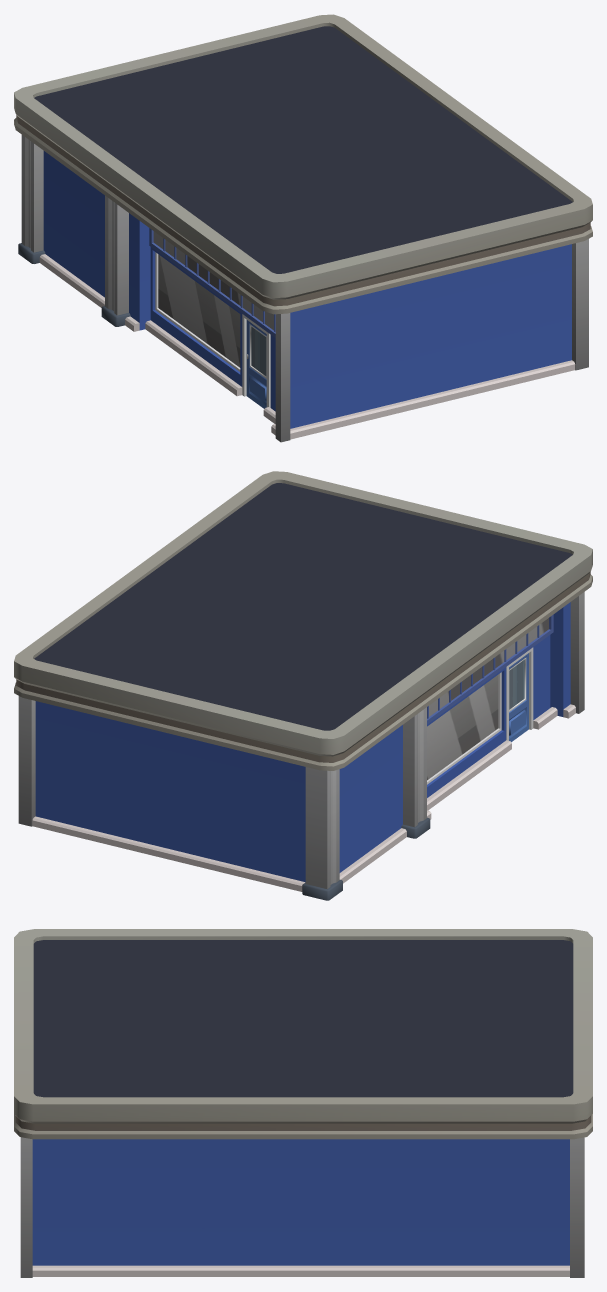
The model's file is Building_11_4_F.glb.
3 renders of one model, top to bottom at view 1: azimuth 30°, elevation 25°; view 2: azimuth 150°, elevation 25°; view 3: azimuth 270°, elevation 25°, orthographic. The views are drawn at different scales.
Visible parts, largest first — view 1: Building_11_4_F; view 2: Building_11_4_F; view 3: Building_11_4_F.
Part boxes in pixels (x1=…): Building_11_4_F: x1=14, y1=14, x2=592, y2=442; Building_11_4_F: x1=14, y1=471, x2=592, y2=900; Building_11_4_F: x1=14, y1=929, x2=592, y2=1277.
Bounding box in the file's own units: 8.33 × 3.93 × 11.63.
Materials: 3 (3 with a texture image).
